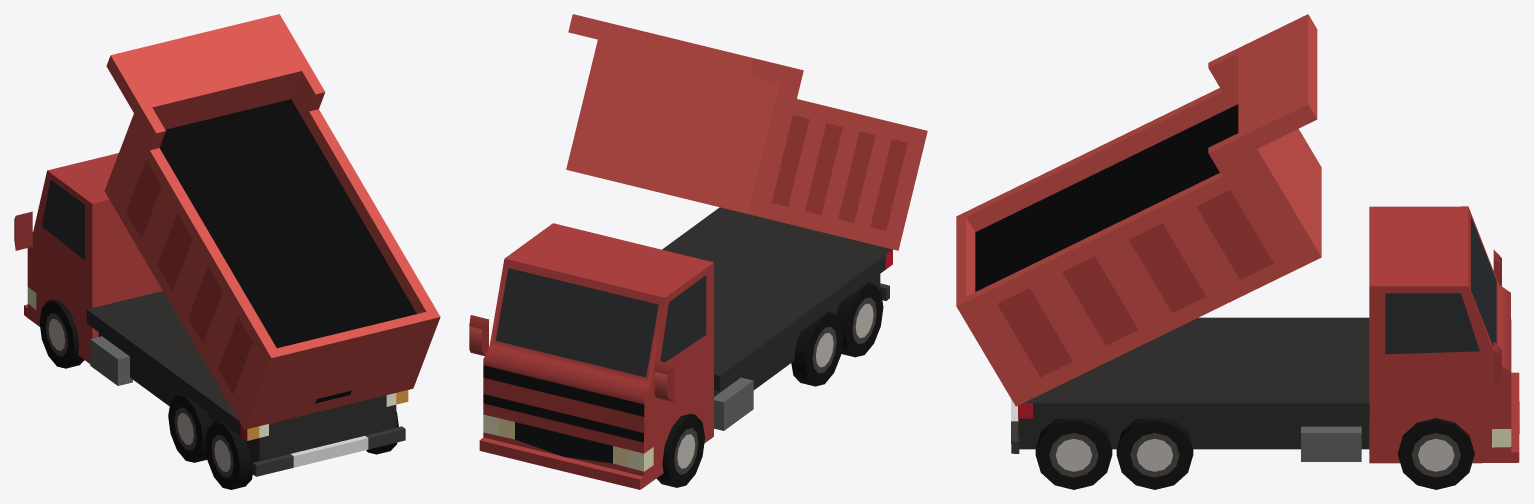
File: Truck_Pull.fbx
3 views of the same model, side by side, from view 1: azimuth 30°, elevation 25°; view 2: azimuth 150°, elevation 25°; view 3: azimuth 270°, elevation 25° (orthographic). The views are drawn at different scales.
Parts seen in each view (by area): view 1: Truck_Pull; view 2: Truck_Pull; view 3: Truck_Pull.
Part boxes in pixels (x1,y1,x2,y2): Truck_Pull: (14,14,440,489); Truck_Pull: (469,14,927,489); Truck_Pull: (956,14,1519,489).
Size of the model in its own units: 236 by 424 by 557.
